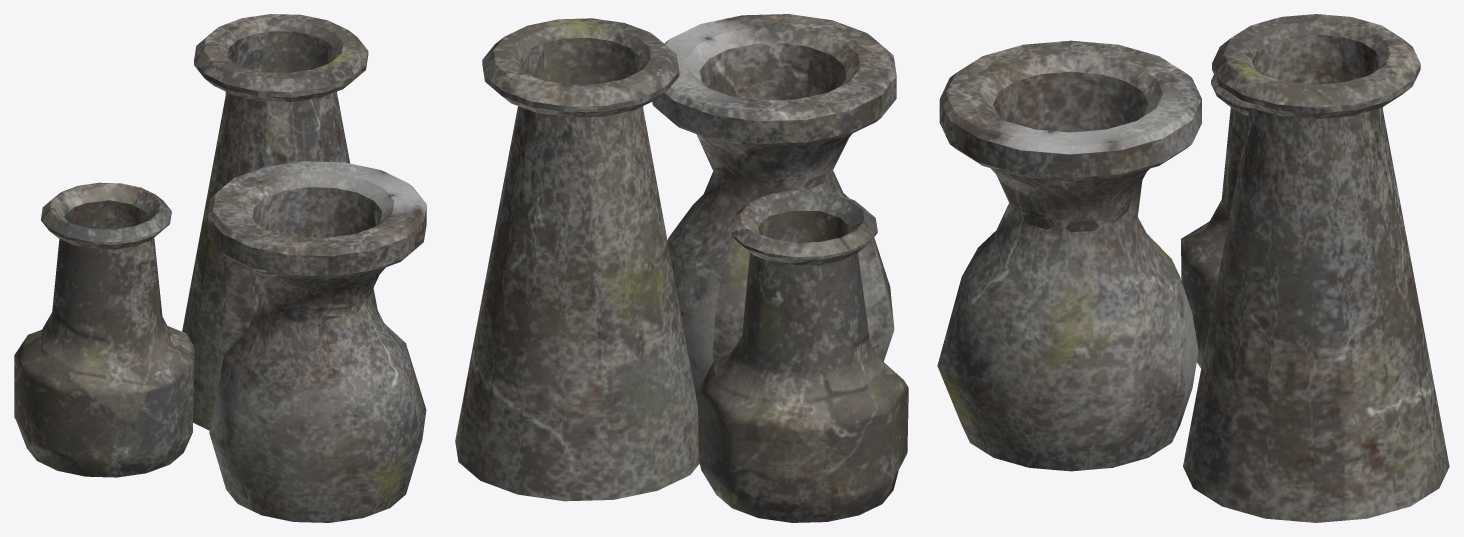
File: SM_Chimney_Pots.fbx
3 renders of one model, left to right at view 1: azimuth 30°, elevation 25°; view 2: azimuth 150°, elevation 25°; view 3: azimuth 270°, elevation 25°, orthographic. The views are drawn at different scales.
Parts seen in each view (by area): view 1: SM_Chimney_Pots_LOD0; view 2: SM_Chimney_Pots_LOD0; view 3: SM_Chimney_Pots_LOD0.
Boxes of the visible parts, x1,y1,x2,y2 form: SM_Chimney_Pots_LOD0: (14,14,426,522); SM_Chimney_Pots_LOD0: (455,14,908,522); SM_Chimney_Pots_LOD0: (937,14,1449,522).
Size of the model in its own units: 94.17 by 97.42 by 86.77.
